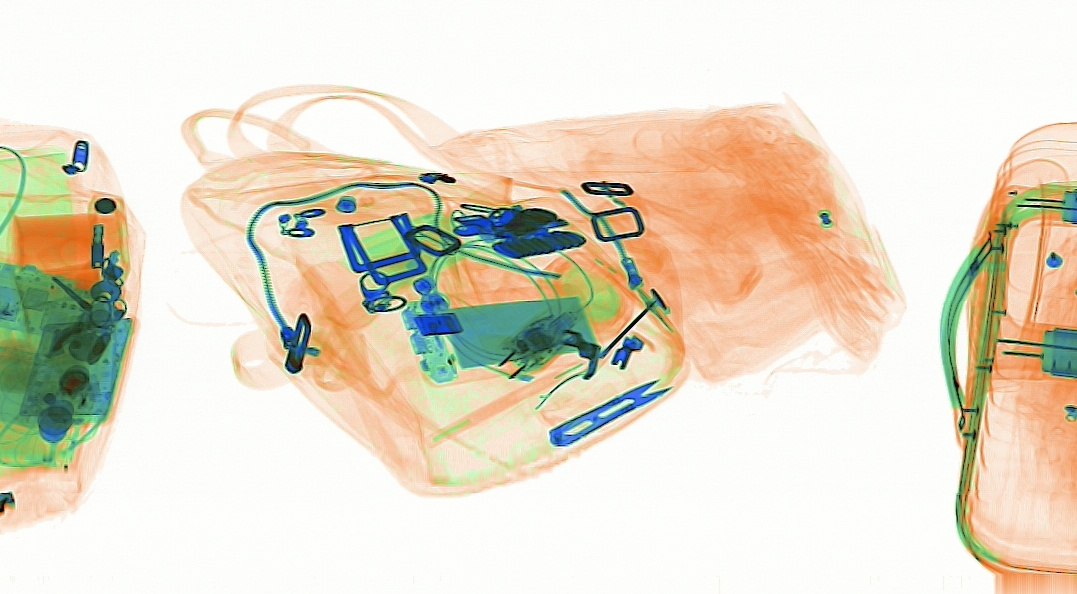scissors: (548, 377, 676, 447)
